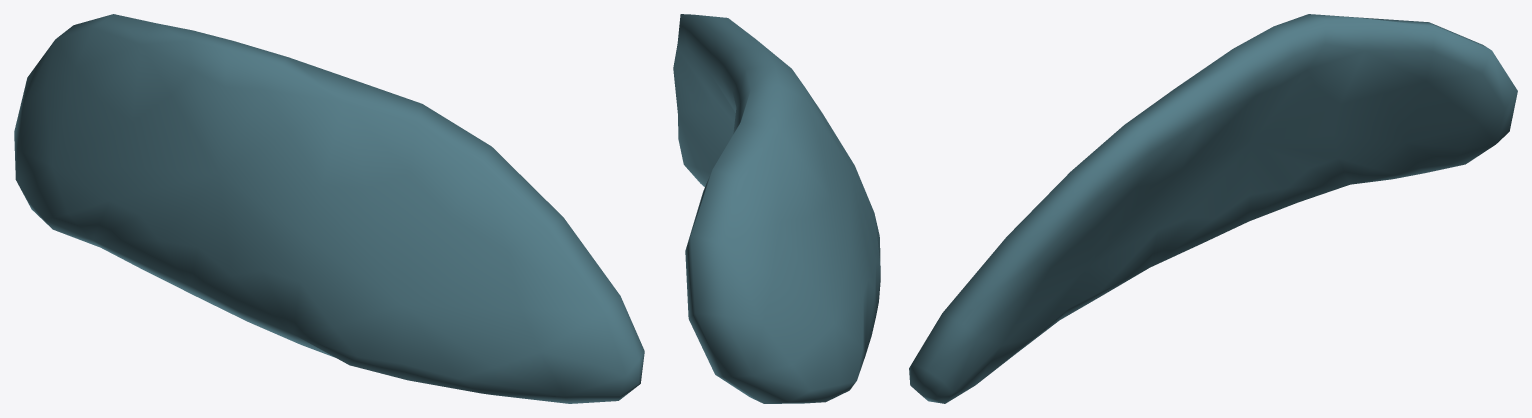
Rendered from Plantar_interossei_on_prox._phal._of_4th_finger_of_foot.r_Gener.glb.
3 views of the same model, side by side, from view 1: azimuth 30°, elevation 25°; view 2: azimuth 150°, elevation 25°; view 3: azimuth 270°, elevation 25° (orthographic). The views are drawn at different scales.
Parts seen in each view (by area): view 1: Plantar_interossei_on_prox._phal._of_4th_finger_of_foot.r_Ge; view 2: Plantar_interossei_on_prox._phal._of_4th_finger_of_foot.r_Ge; view 3: Plantar_interossei_on_prox._phal._of_4th_finger_of_foot.r_Ge.
Boxes of the visible parts, x1,y1,x2,y2 form: Plantar_interossei_on_prox._phal._of_4th_finger_of_foot.r_Ge: [14, 14, 644, 403]; Plantar_interossei_on_prox._phal._of_4th_finger_of_foot.r_Ge: [673, 14, 880, 403]; Plantar_interossei_on_prox._phal._of_4th_finger_of_foot.r_Ge: [909, 14, 1517, 403].
Bounding box in the file's own units: 0.00351 × 0.00254 × 0.00507.
